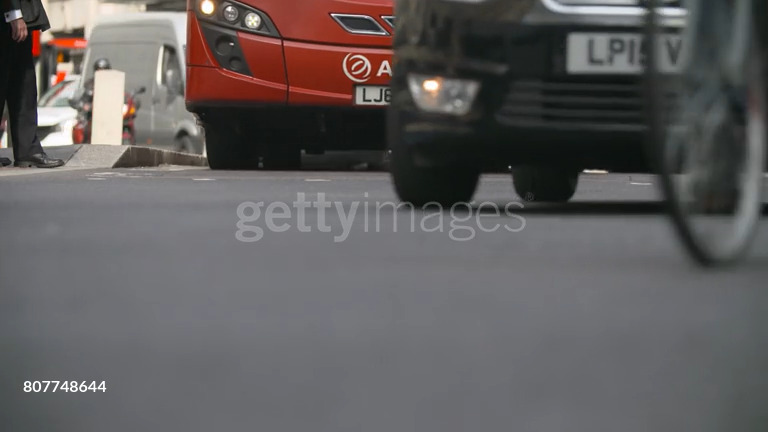car number: (565, 31, 684, 74), (354, 83, 393, 103)
